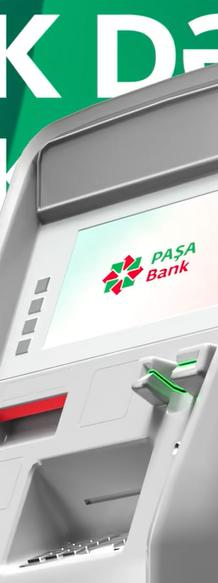Pasha Bank: (101, 255, 144, 296)
